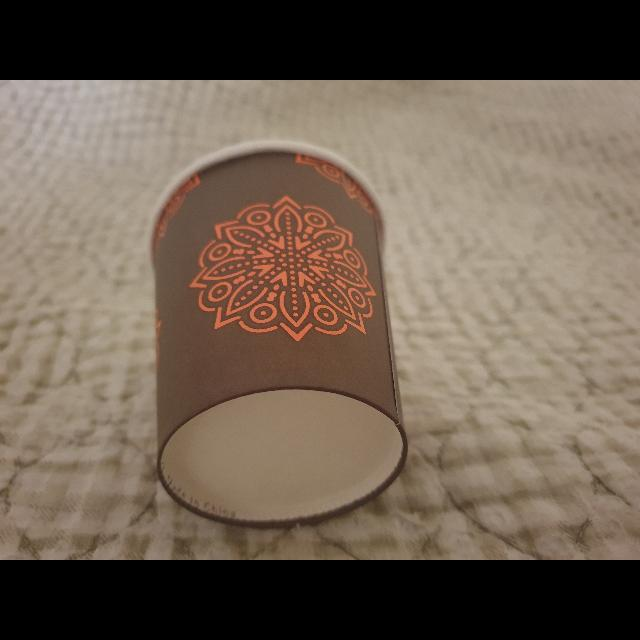trash: (146, 138, 416, 536)
